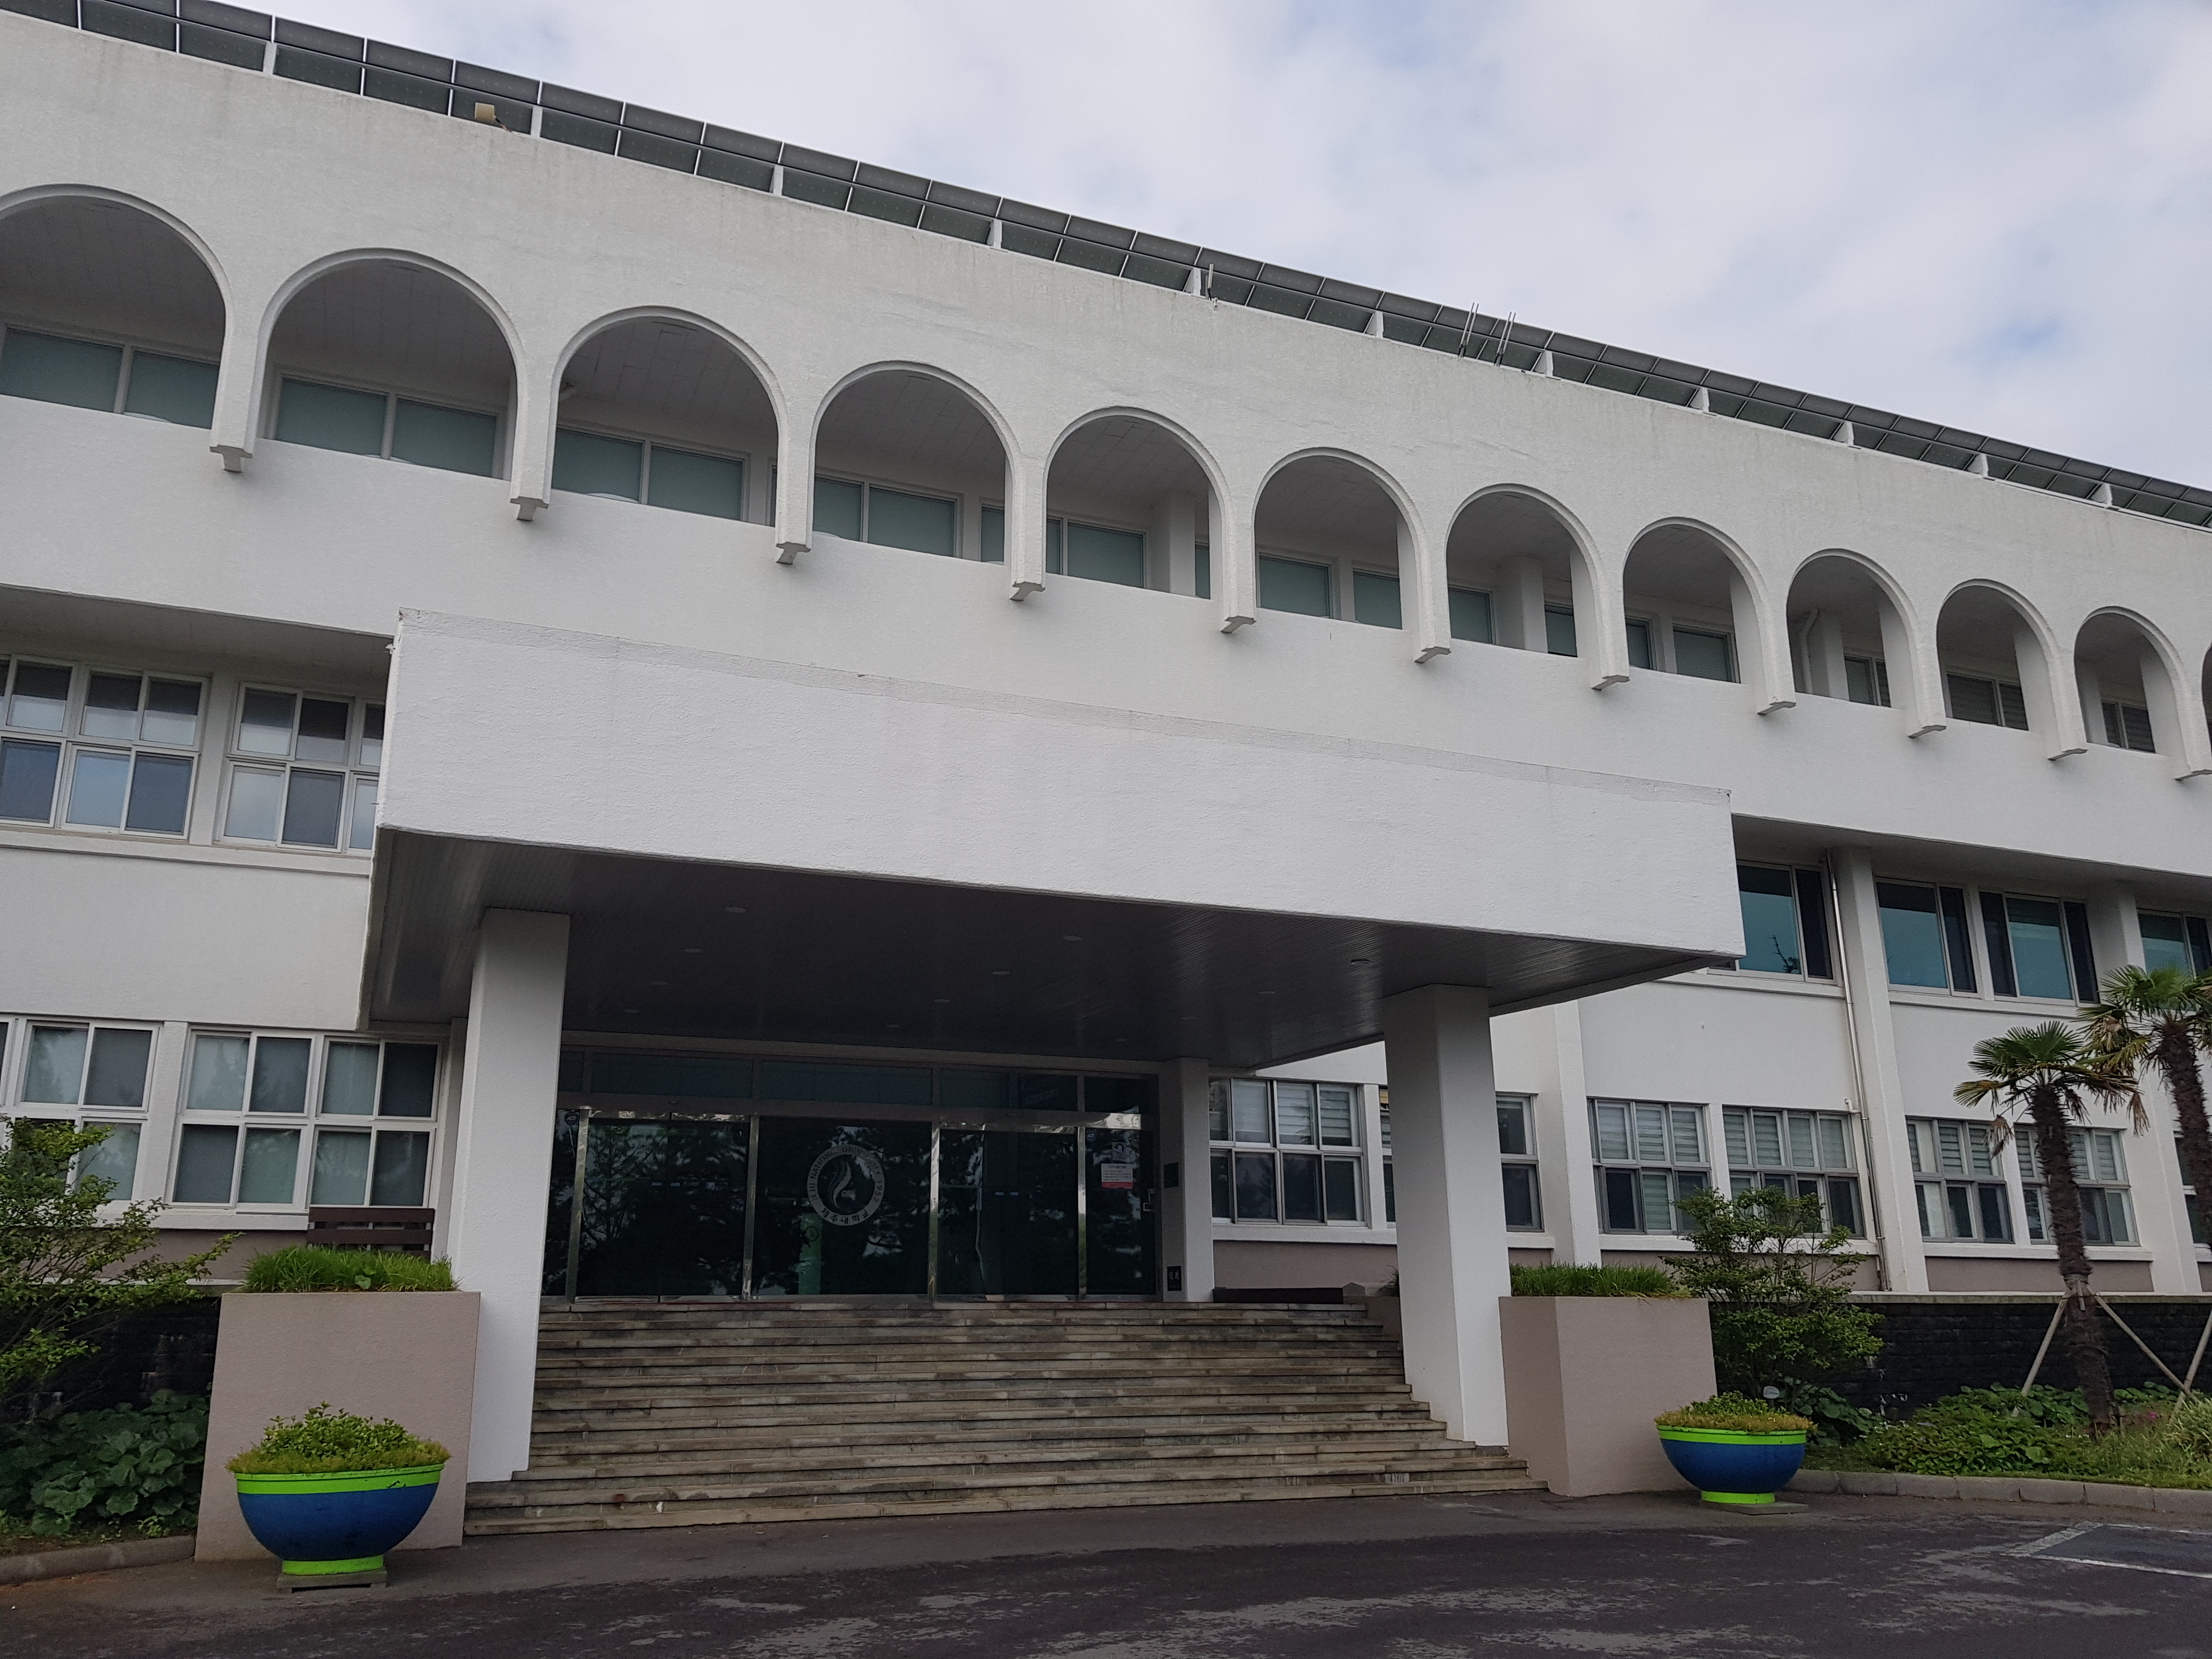Main Building of University: (51, 84, 2135, 1384), (331, 634, 1804, 1518), (260, 249, 2073, 810)
